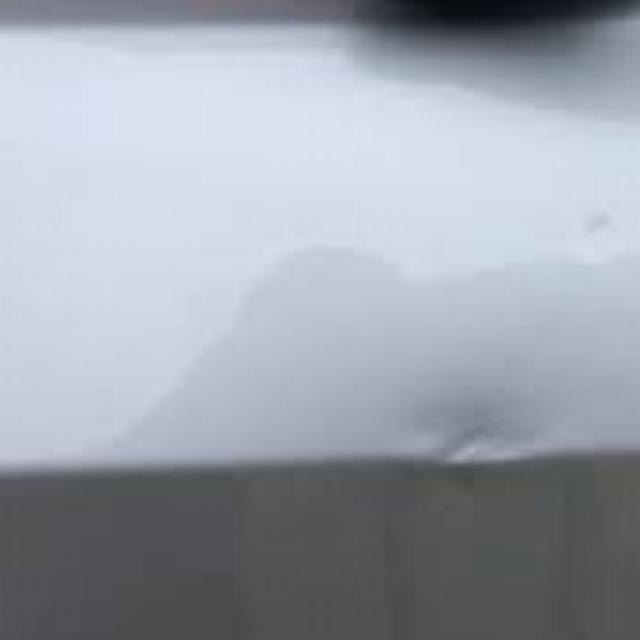dents: (383, 360, 574, 525), (555, 194, 637, 285)
